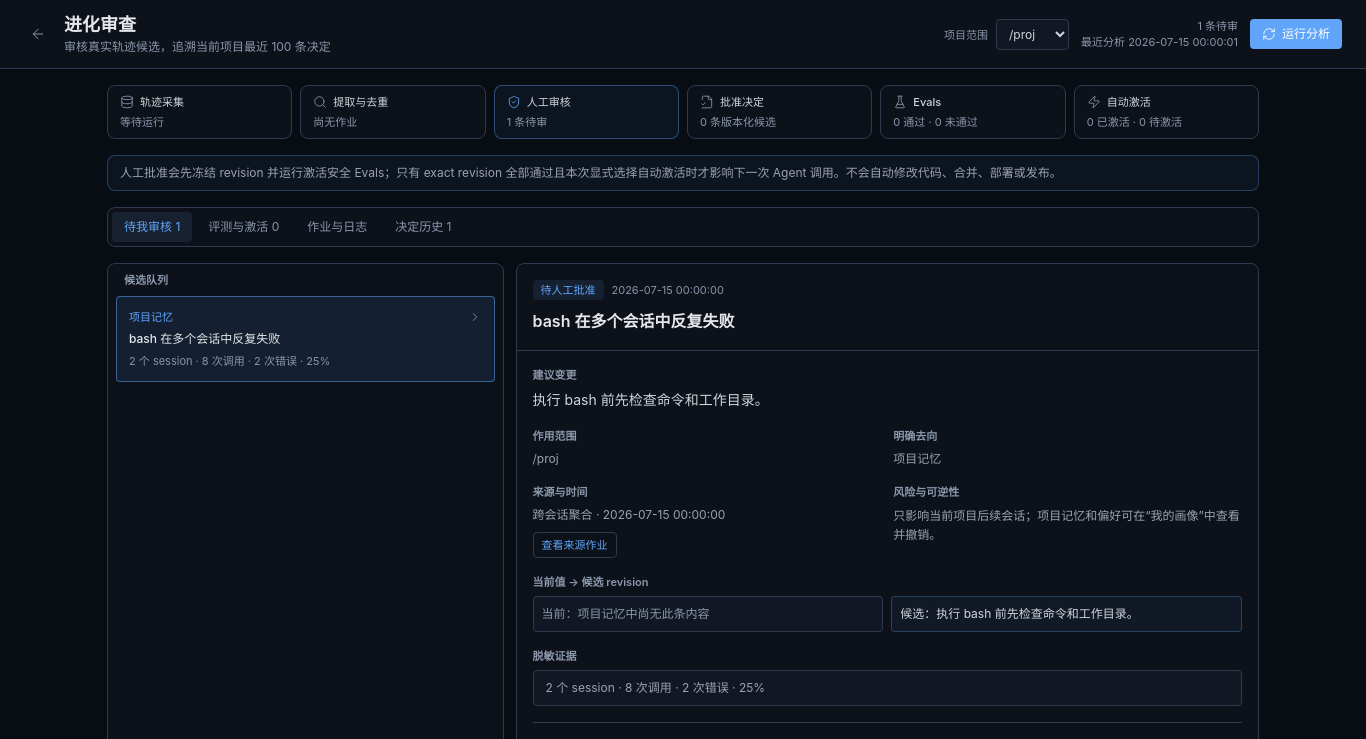
Test: EvolutionWorkbenchPage › clears project A logs immediately while project B is still loading
Click the tab "作业与日志".
click(337, 227)  # box [295,212,379,242]
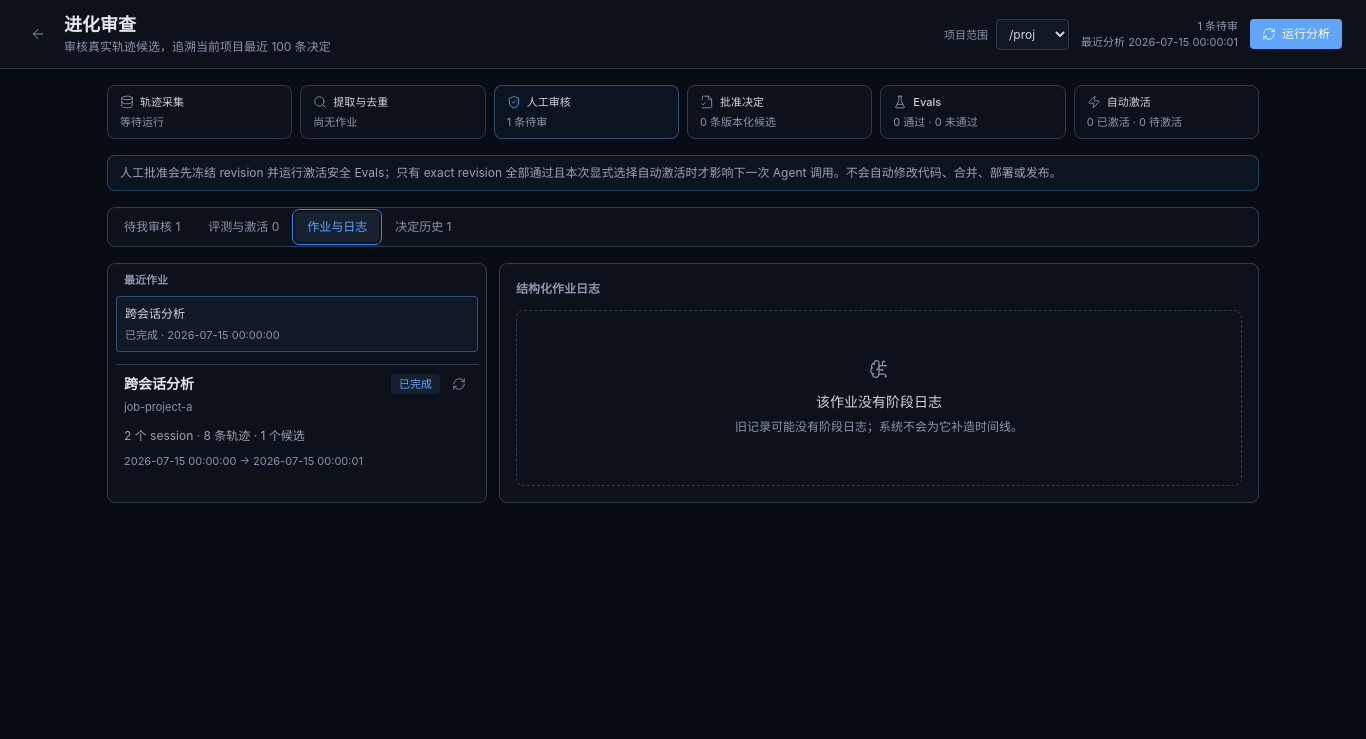
Result: the text "job-project-a" is shown at [124,399,194,415]
Select "/other" in the dropdown labelled "项目范围" at [1032, 34], box [996,18,1069,50]
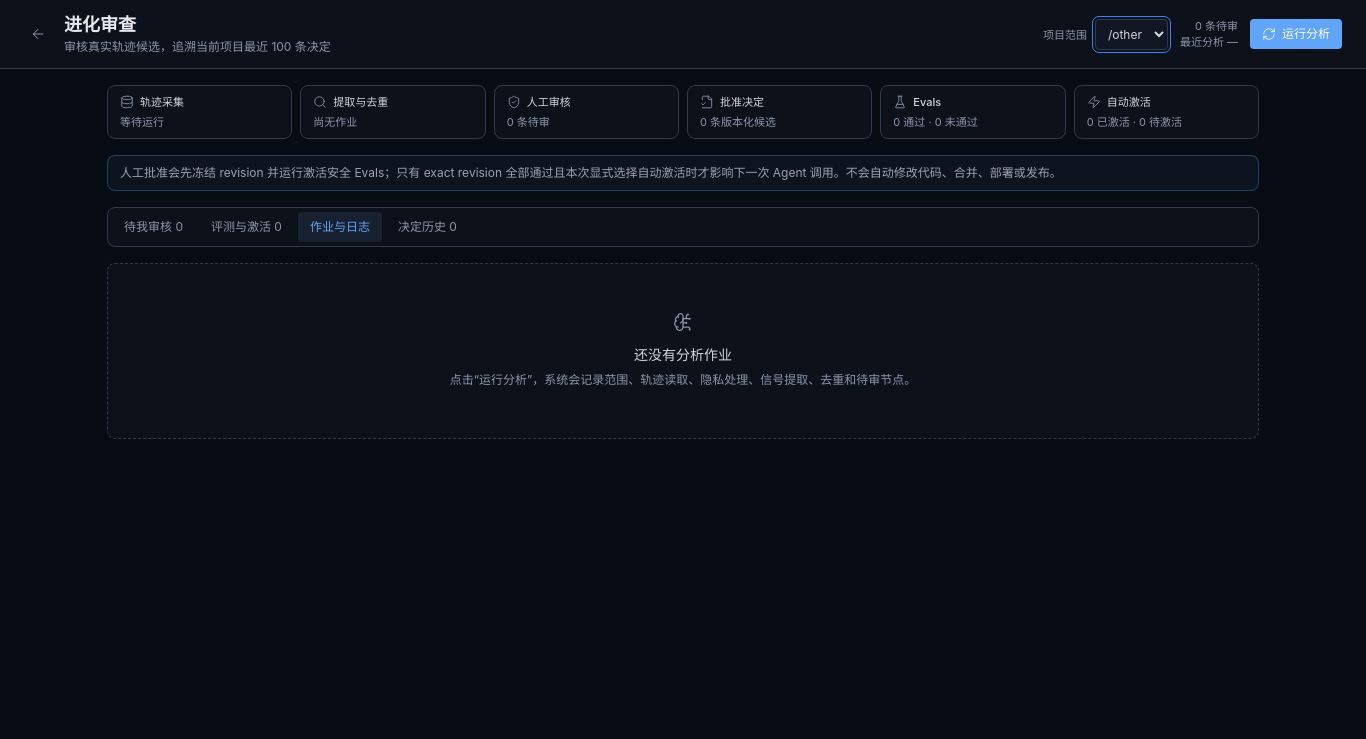
Result: the text "正在加载作业" is shown at [634,346,732,363]
Result: the text "job-project-a" is gone
